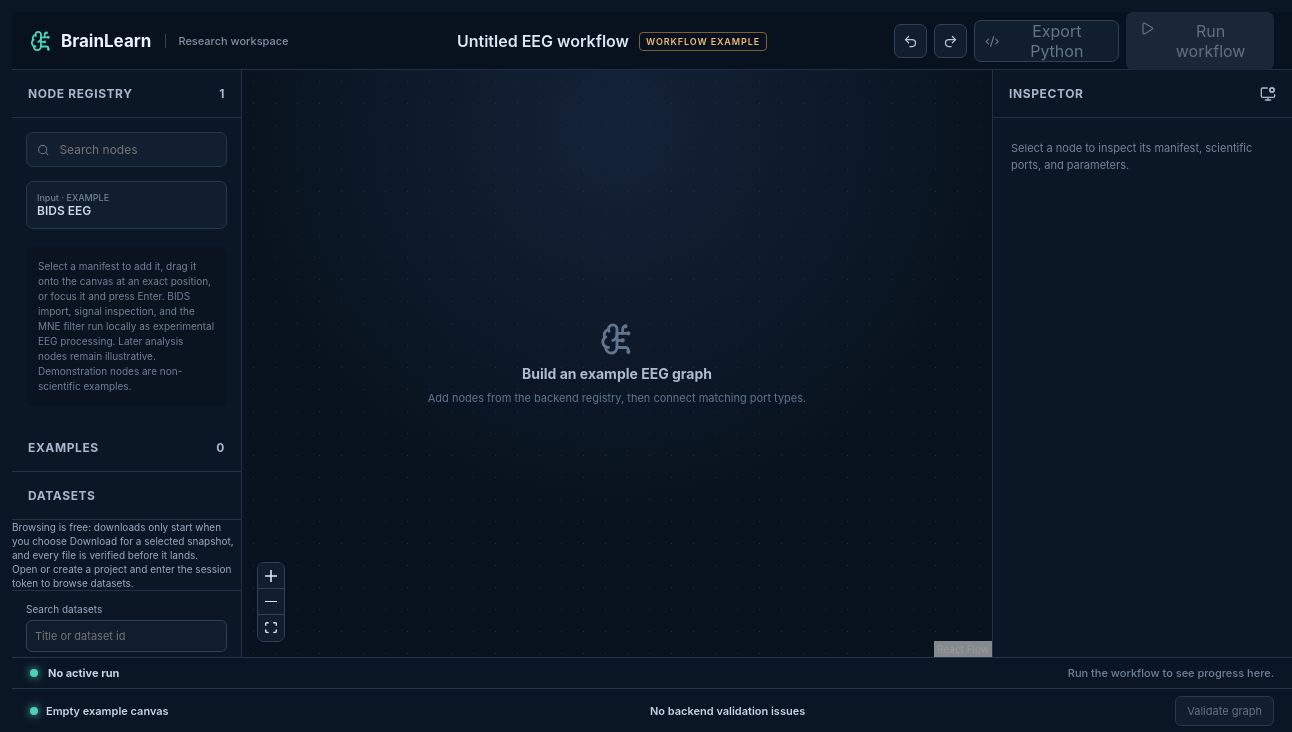
Scenario: adds and removes a registry node from an empty canvas
The image size is (1292, 732).
Expected: the text "Build an example EEG graph" is shown, [522,365,712,382]
Expected: the button "Export Python" is disabled, [974,20,1119,62]
Click the button "Input · EXAMPLE BIDS EEG".
click(126, 205)  # box [26,181,227,229]
(page scrolled)
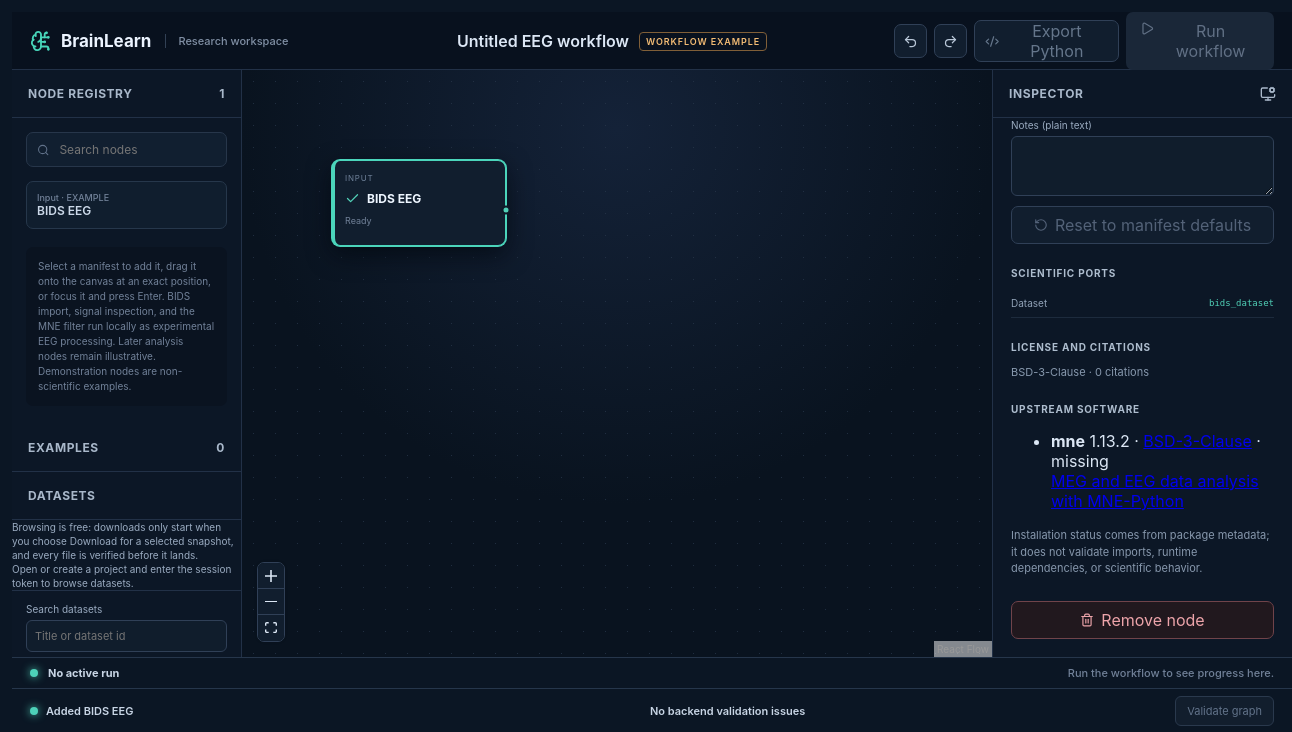
Expected: the text "Build an example EEG graph" is gone
Click the button "Remove node".
click(1142, 620)  # box [1011,600,1274,638]
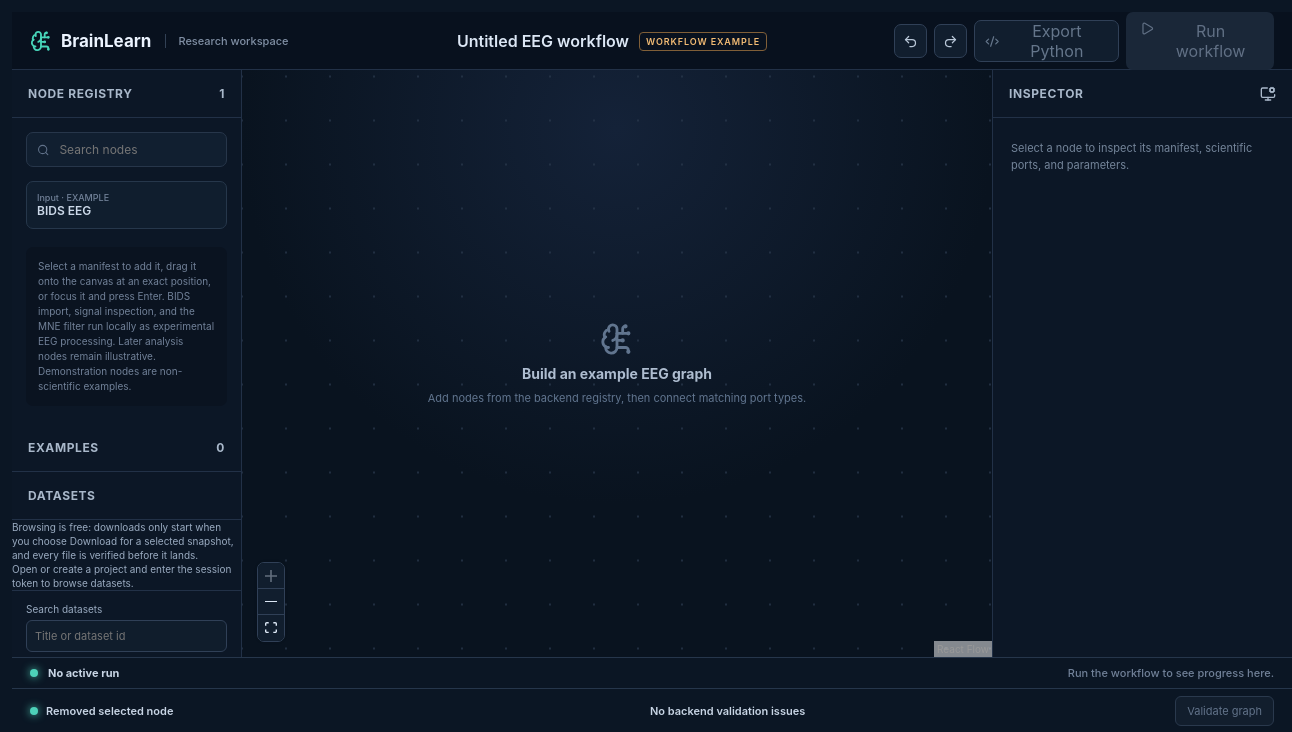
Expected: the text "Build an example EEG graph" is shown, [522,365,712,382]
